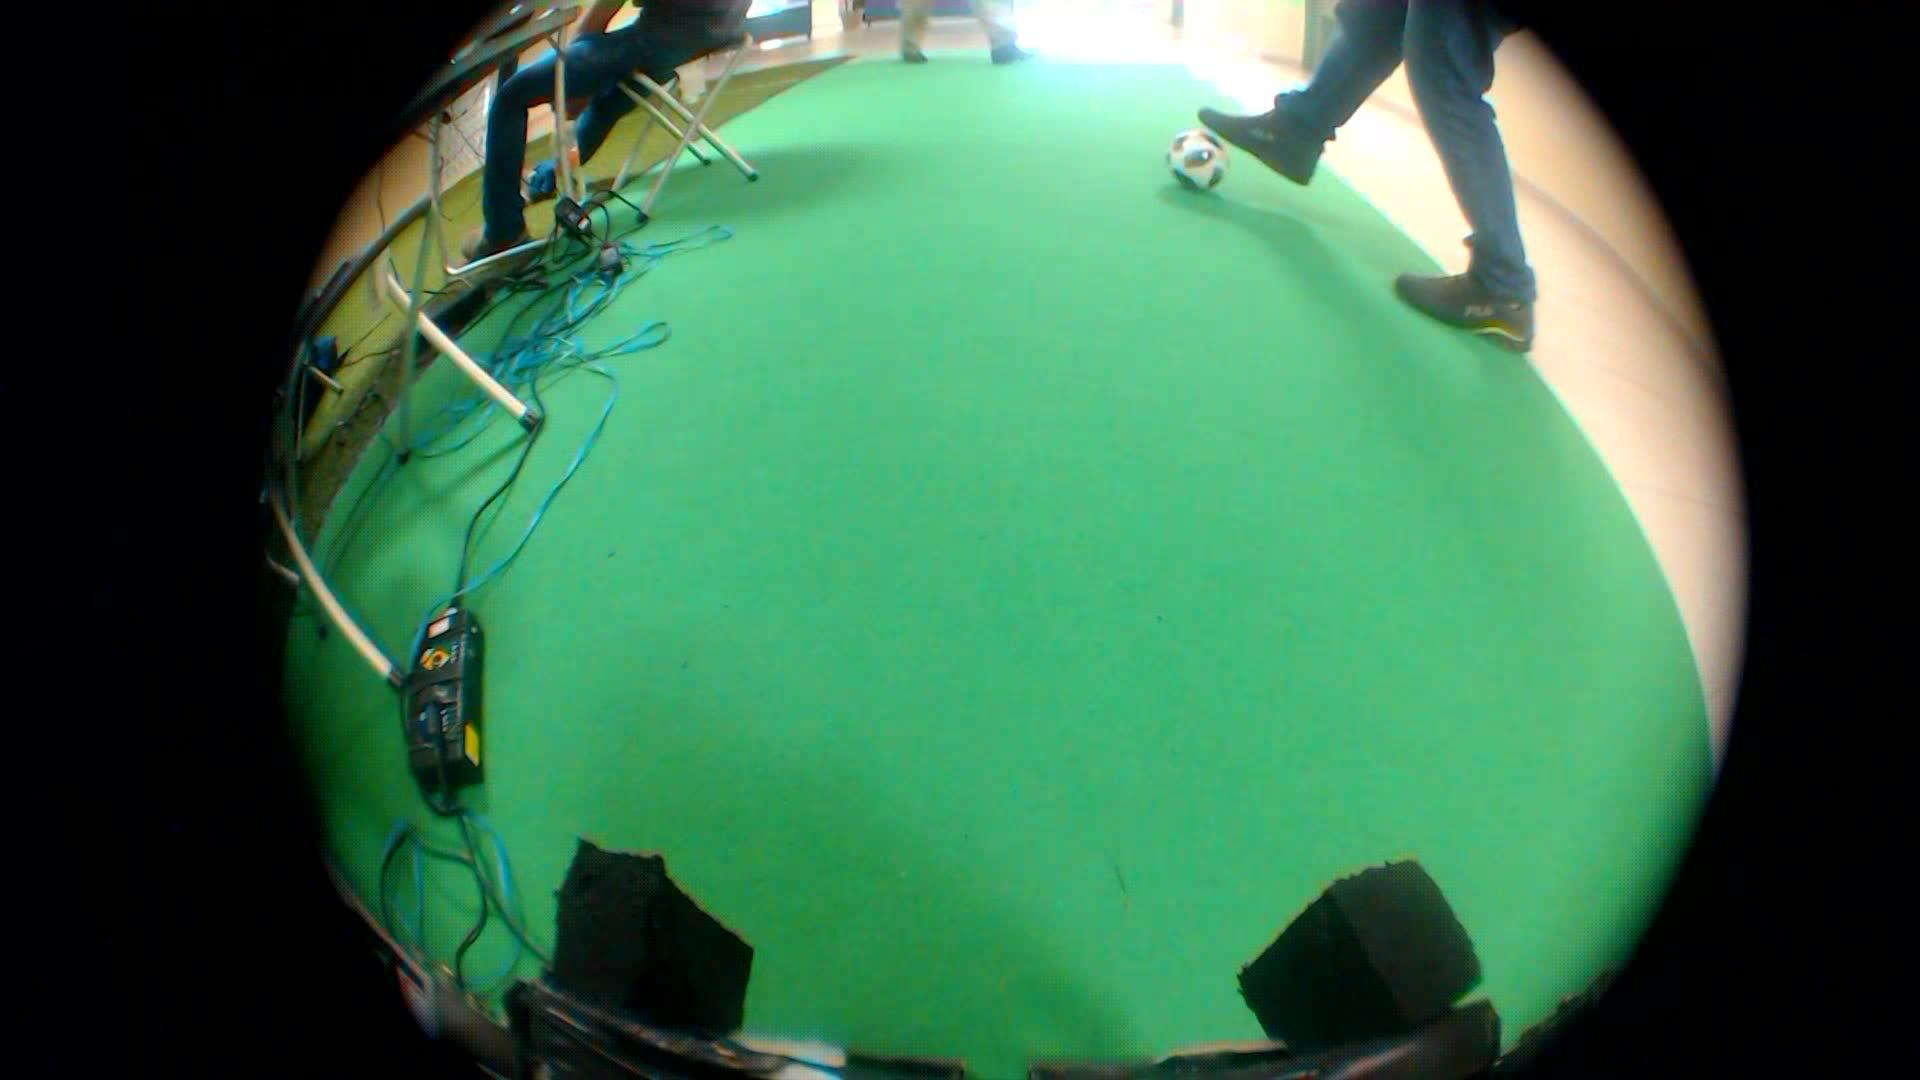ball: (1156, 115, 1236, 195)
